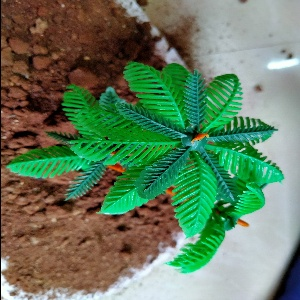plant: (23, 62, 286, 271)
